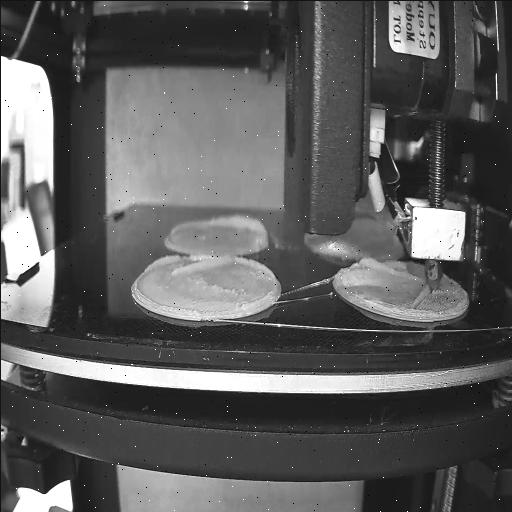over_extrusion: (234, 257, 278, 309), (142, 252, 230, 278), (206, 211, 268, 244), (358, 254, 420, 280), (410, 284, 430, 306)
